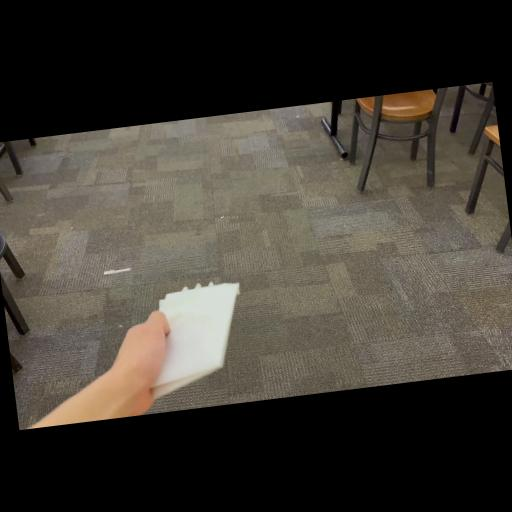napkin: (134, 278, 252, 394)
